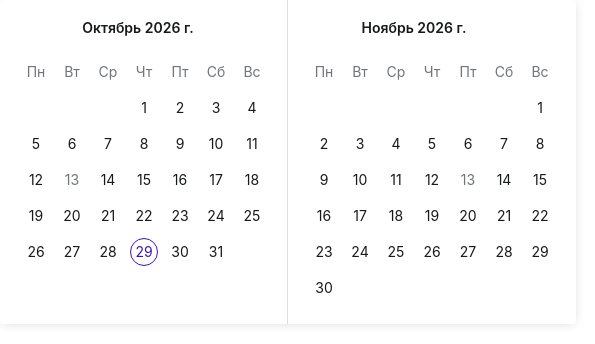
Test: RangeCalendar › prevents selecting a range through a disabled date
The image size is (595, 344).
Click the button with test id "calendar-day-2026-10-10" at (216, 144), box left=200, top=128, right=232, bottom=160
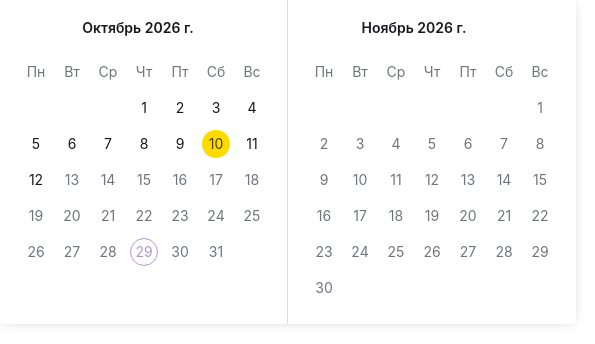
Result: the button with test id "calendar-day-2026-10-14" is disabled at left=92, top=164, right=124, bottom=196
